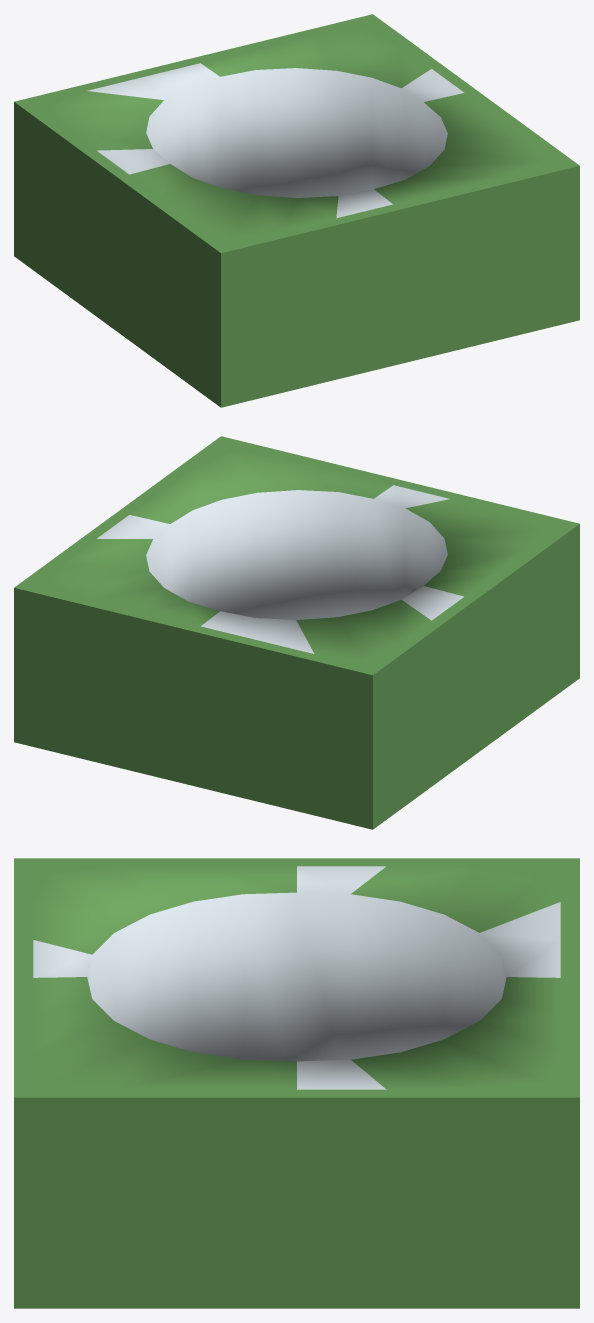
File: HoleBiggerCollider.fbx
The picture shows the model from 3 angles, top to bottom: view 1: azimuth 30°, elevation 25°; view 2: azimuth 150°, elevation 25°; view 3: azimuth 270°, elevation 25°; orthographic projection. The views are drawn at different scales.
Visible parts, largest first — view 1: PlatBorderInwardsHole2S2.001; view 2: PlatBorderInwardsHole2S2.001; view 3: PlatBorderInwardsHole2S2.001.
Boxes of the visible parts, left/top/right/bottom form: PlatBorderInwardsHole2S2.001: left=14, top=14, right=579, bottom=407; PlatBorderInwardsHole2S2.001: left=14, top=436, right=579, bottom=829; PlatBorderInwardsHole2S2.001: left=14, top=858, right=579, bottom=1308.
Size of the model in its own units: 167 by 69.4 by 167.
